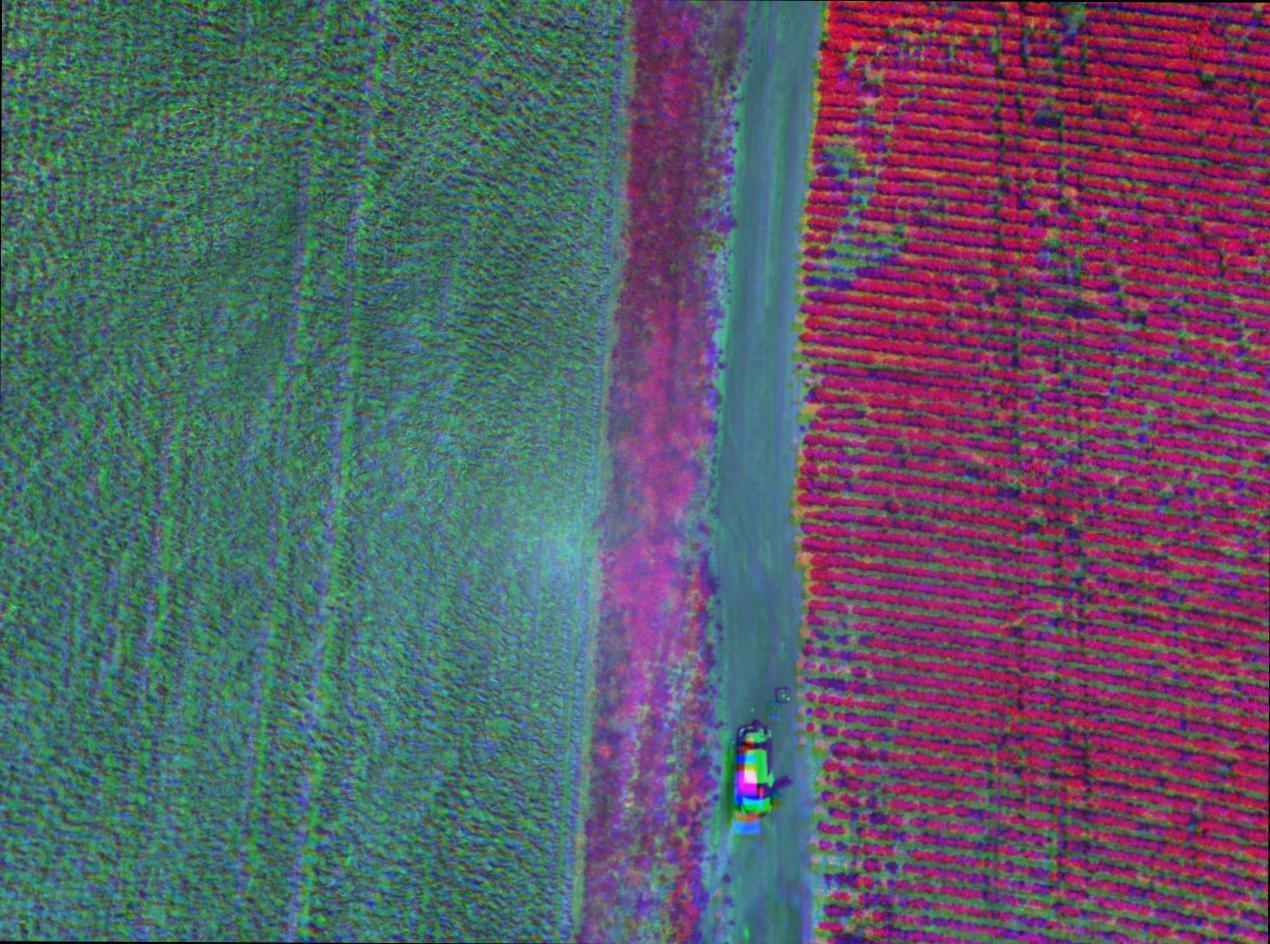dc: (950, 840, 1063, 944), (818, 821, 910, 911), (828, 132, 904, 224), (818, 218, 885, 280)
